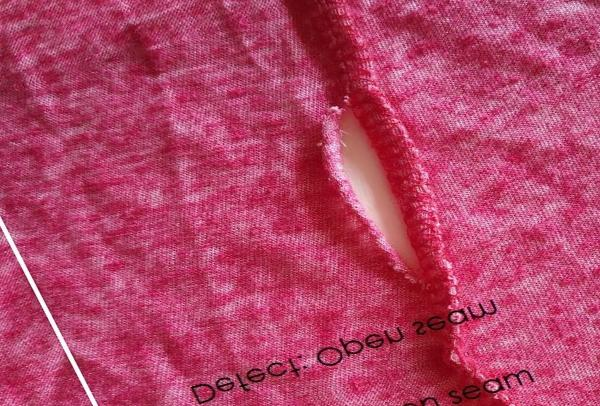hole: (319, 88, 433, 296)
